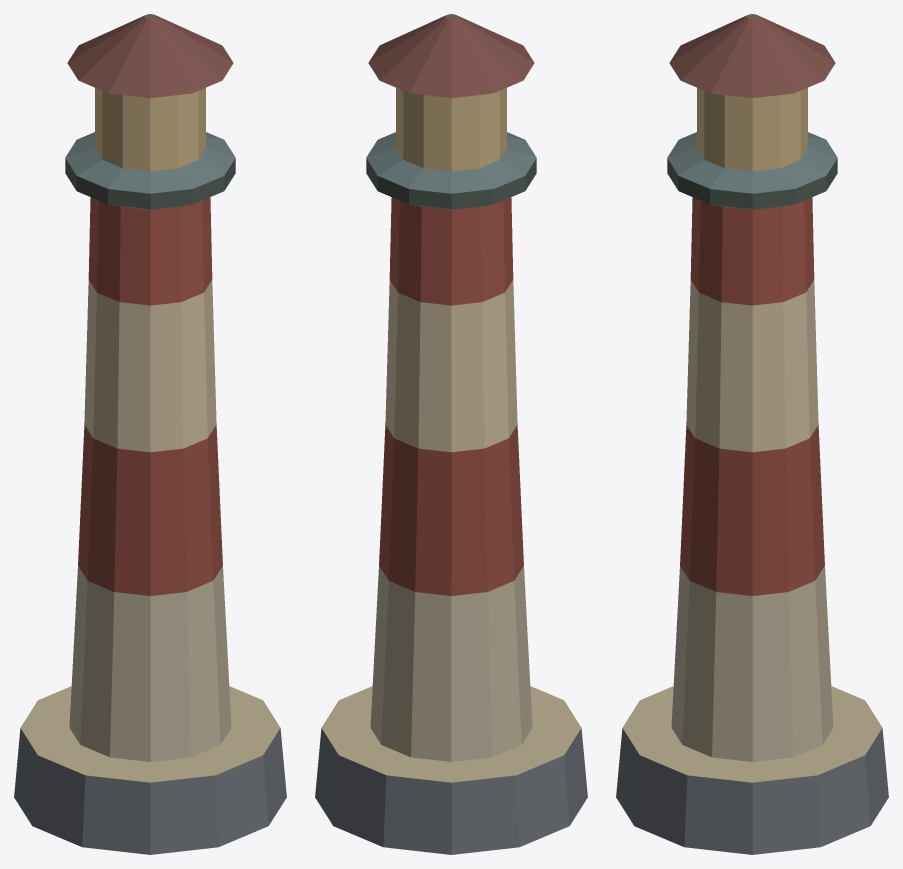
The model's file is OuterLight.glb.
3 renders of one model, left to right at view 1: azimuth 30°, elevation 25°; view 2: azimuth 150°, elevation 25°; view 3: azimuth 270°, elevation 25°, orthographic.
Parts seen in each view (by area): view 1: OuterLight; view 2: OuterLight; view 3: OuterLight.
Part boxes in pixels (x1=…): OuterLight: x1=14, y1=14, x2=286, y2=854; OuterLight: x1=315, y1=14, x2=587, y2=854; OuterLight: x1=616, y1=14, x2=888, y2=854.
Size of the model in its own units: 1.28 by 4.04 by 1.28.
